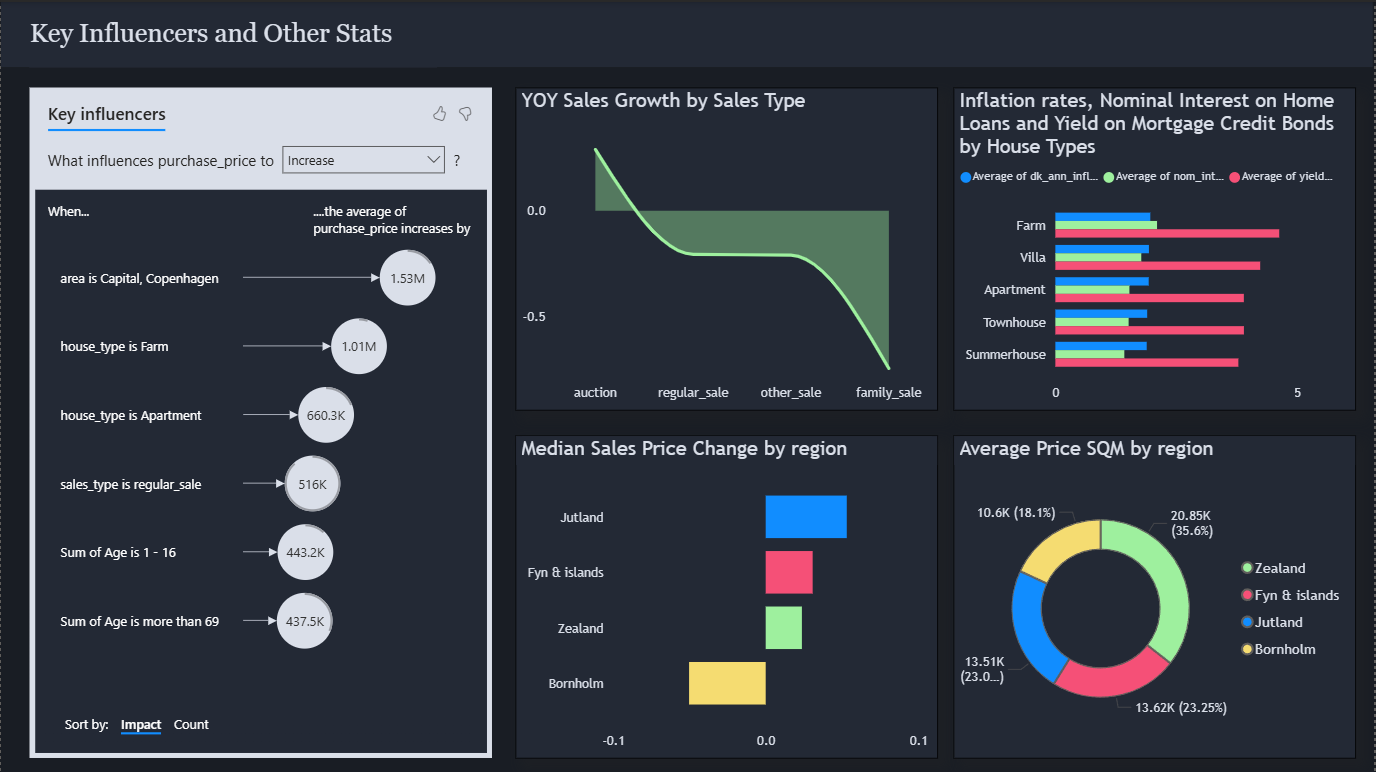

The dashboard page shown, as its layout file describes it:
{"tool":"powerbi","page":{"name":"Keys & Stats","canvas":[1280,720],"ordinal":1},"visuals":[{"type":"donutChart","fields":{"Y":["Measures Table 1.Average Price SQM"],"Category":["Housing Data.region"]},"box":[888.8,404.3,375.5,301.3],"z":0},{"type":"keyDriversVisual","fields":{"Target":["Housing Data.purchase_price"],"ExplainBy":["Housing Data.sales_type","Sum(Housing Data.Age)","Housing Data.area","Housing Data.house_type"]},"box":[27.3,80.3,431.5,625.4],"z":1000},{"type":"lineChart","title":"YOY Sales Growth by Sales Type","fields":{"Category":["Housing Data.sales_type"],"Y":["Housing Data.YOY_Sales_Growth"]},"box":[480,80.3,393.7,301.3],"z":2000},{"type":"barChart","fields":{"Y":["Housing Data.Median Sales Price Change"],"Category":["Housing Data.region"]},"box":[480,404.3,393.7,301.3],"z":3000},{"type":"clusteredBarChart","title":"Inflation rates, Nominal Interest on Home Loans and Yield on Mortgage Credit Bonds by House Types","fields":{"Category":["Housing Data.house_type"],"Y":["Avg(Housing Data.dk_ann_infl_rate%)","Avg(Housing Data.nom_interest_rate%)","Avg(Housing Data.yield_on_mortgage_credit_bonds%)"]},"box":[888.8,80.3,375.5,301.3],"z":4000},{"type":"textbox","box":[27.3,10.6,380.1,50],"z":6000},{"type":"textbox","box":[0,0,1279.5,60.6],"z":6001}]}

Visuals, with their boxes in screenshot pixels (x1, y1, x2, y2), scaled from the page's 1280x720 canvas onto the 1376x772 screenshot:
donutChart - Measures Table 1.Average Price SQM x Housing Data.region: <bbox>955, 433, 1359, 757</bbox>
keyDriversVisual - Housing Data.purchase_price x Housing Data.sales_type: <bbox>29, 86, 493, 757</bbox>
"YOY Sales Growth by Sales Type" lineChart: <bbox>516, 86, 939, 409</bbox>
barChart - Housing Data.Median Sales Price Change x Housing Data.region: <bbox>516, 433, 939, 757</bbox>
"Inflation rates, Nominal Interest on Home Loans and Yield on Mortgage Credit Bonds by House Types" clusteredBarChart: <bbox>955, 86, 1359, 409</bbox>
textbox: <bbox>29, 11, 438, 65</bbox>
textbox: <bbox>0, 0, 1375, 65</bbox>
